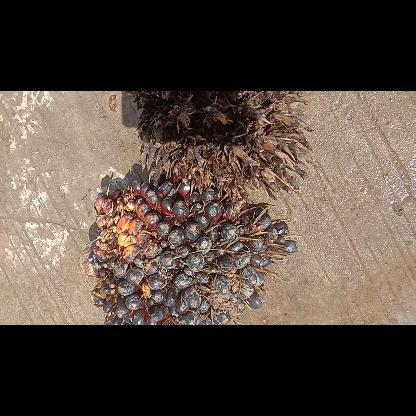Janjang kosong: (136, 92, 310, 199)
TBS mentah: (80, 174, 300, 324)
